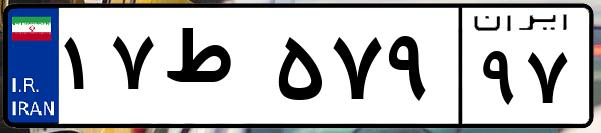1: (57, 26, 110, 100)
5: (270, 28, 330, 110)
7: (330, 28, 385, 110), (525, 38, 570, 115), (110, 28, 158, 98)
9: (385, 28, 445, 110), (475, 38, 525, 113)
ط: (158, 20, 270, 120)
